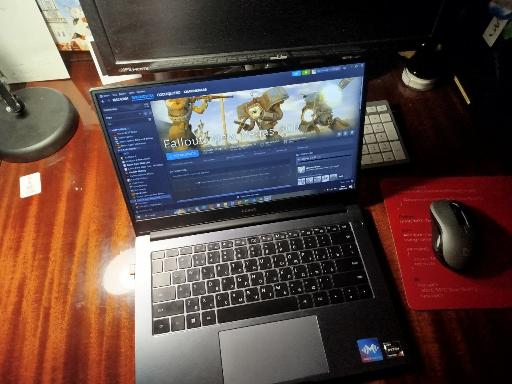steam: (94, 59, 369, 223)
